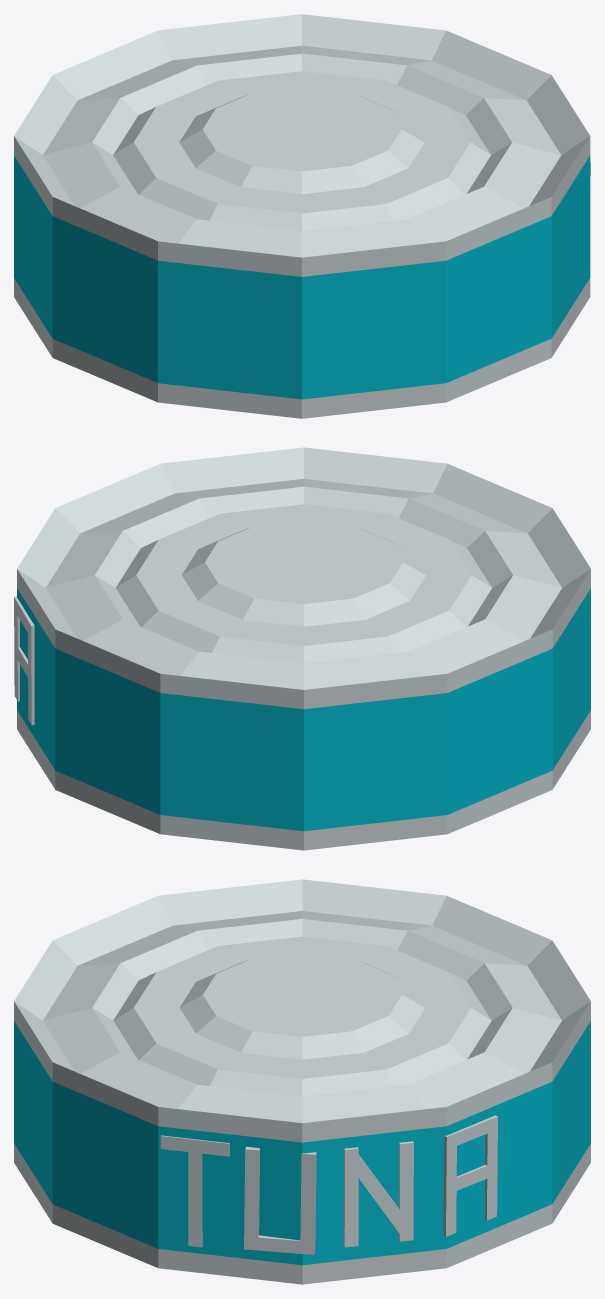
Rendered from canned_food_model.glb.
The picture shows the model from 3 angles, top to bottom: view 1: azimuth 30°, elevation 25°; view 2: azimuth 150°, elevation 25°; view 3: azimuth 270°, elevation 25°; orthographic projection.
Visible parts, largest first — view 1: Node; view 2: Node; view 3: Node.
Boxes of the visible parts, x1,y1,x2,y2 form: Node: [14, 14, 590, 418]; Node: [14, 447, 590, 850]; Node: [14, 879, 590, 1284].
Size of the model in its own units: 0.814 by 0.26 by 0.81.
